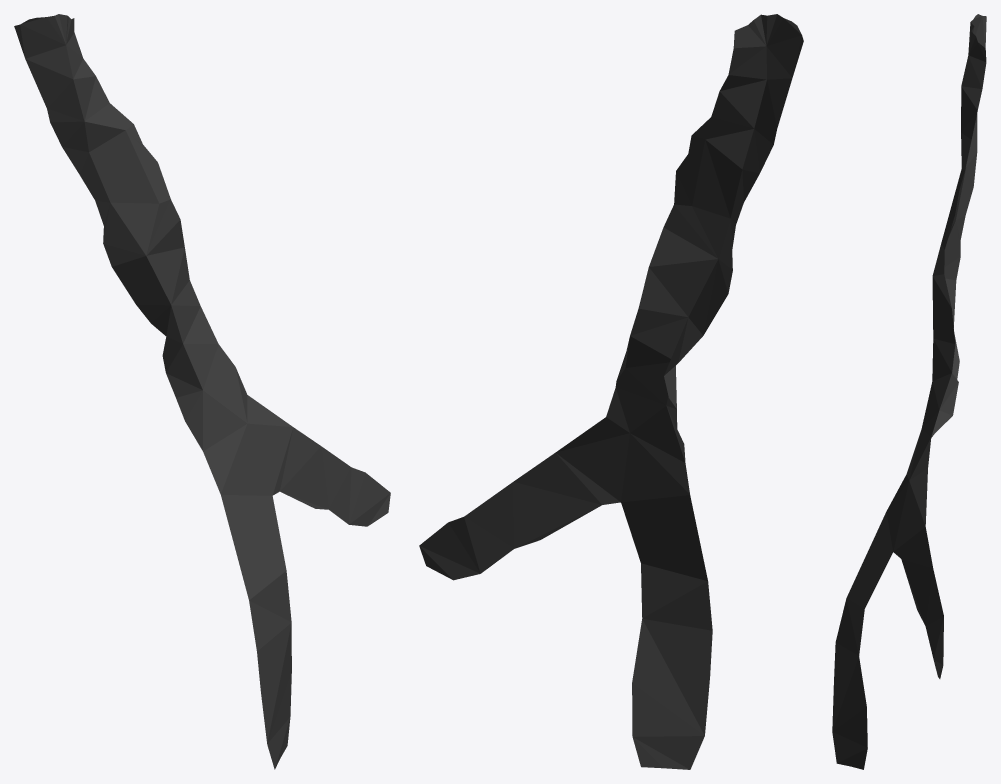
The model's file is A_unused7_Group52907.glb.
3 renders of one model, left to right at view 1: azimuth 30°, elevation 25°; view 2: azimuth 150°, elevation 25°; view 3: azimuth 270°, elevation 25°, orthographic. The views are drawn at different scales.
Parts seen in each view (by area): view 1: A_unused7_Group52907; view 2: A_unused7_Group52907; view 3: A_unused7_Group52907.
Part boxes in pixels (box(x1,y1,x2,y2)): A_unused7_Group52907: box(14, 14, 390, 769); A_unused7_Group52907: box(419, 14, 803, 769); A_unused7_Group52907: box(832, 14, 986, 769).
Size of the model in its own units: 0.00833 by 0.0166 by 0.00344.
Materials: 1 (1 with a texture image).
